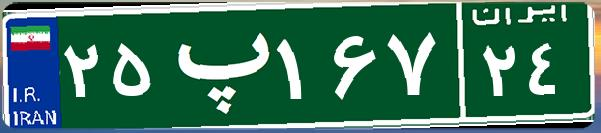1: (273, 28, 330, 110)
2: (57, 26, 110, 107), (475, 38, 525, 113)
4: (525, 38, 570, 115)
5: (110, 28, 158, 105)
6: (330, 28, 385, 110)
7: (385, 28, 445, 110)
پ: (158, 15, 273, 115)
